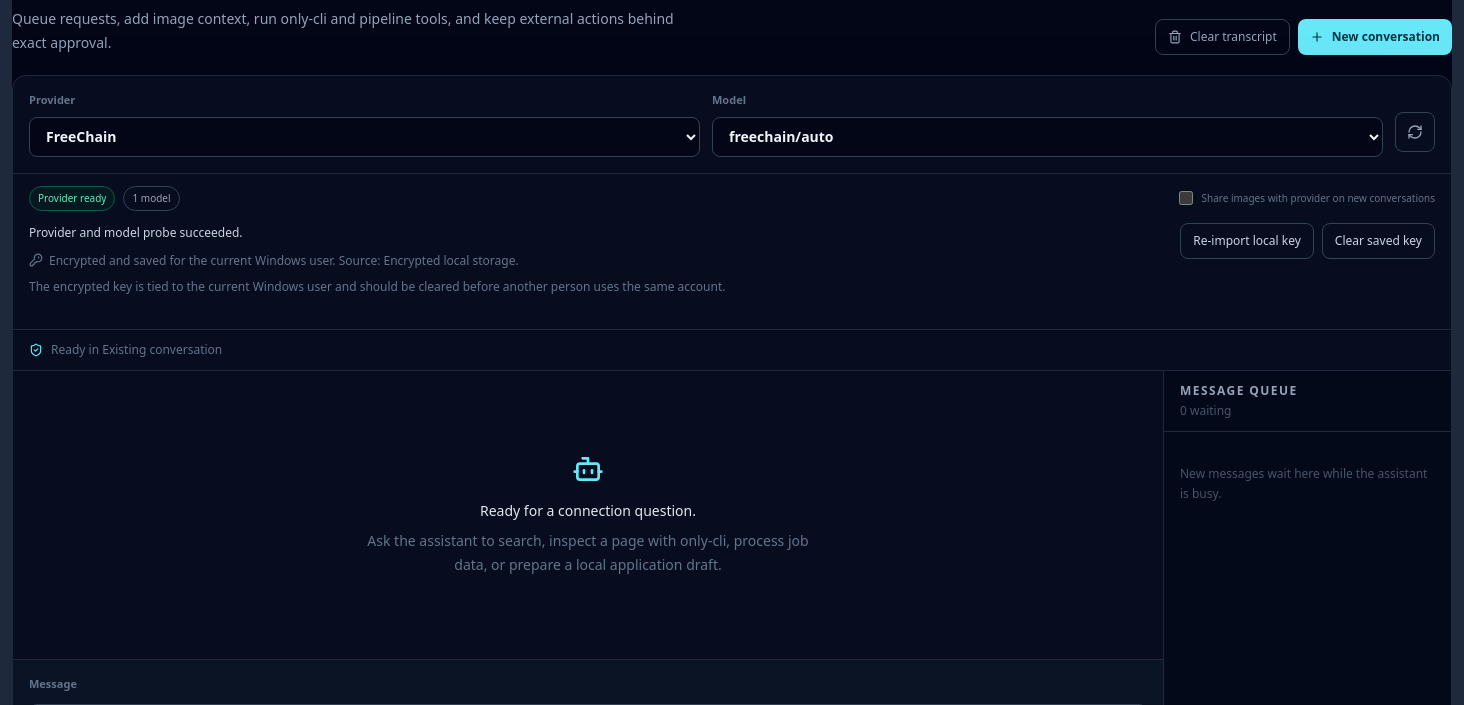
Scenario: assistant provider readiness and credential controls › treats a resolved saved clear status as a failure and keeps actions disabled
Expected: the text "Provider ready" is shown, [29, 186, 116, 210]
Step 1. Click the button "Clear saved key" → (1378, 240), box [1322, 222, 1435, 258]
(page scrolled)
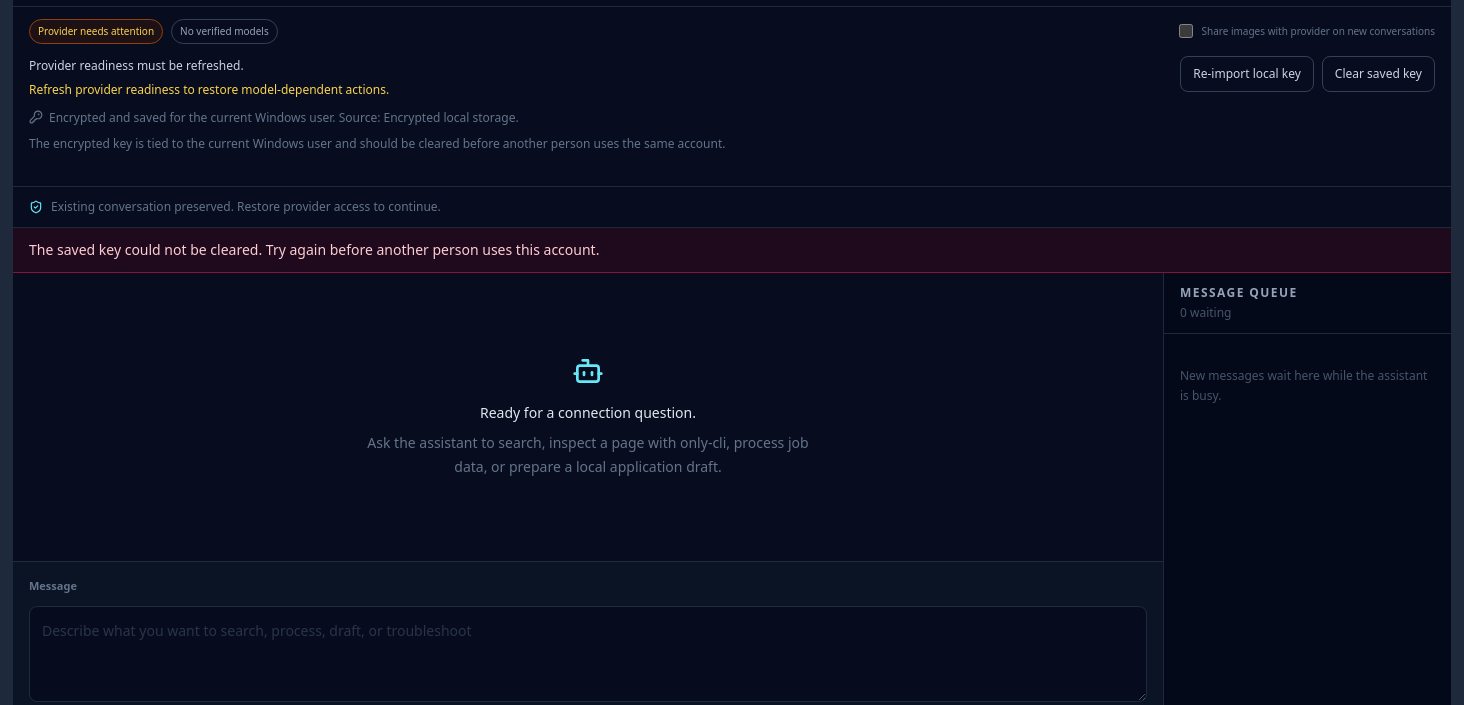
Expected: the 1st message is empty, [29, 154, 1435, 174]
Expected: the 2nd message shows "The saved key could not be cleared. Try again before another person uses this account.", [29, 240, 599, 258]
Expected: the text box labelled "Message" is disabled, [29, 606, 1147, 702]
